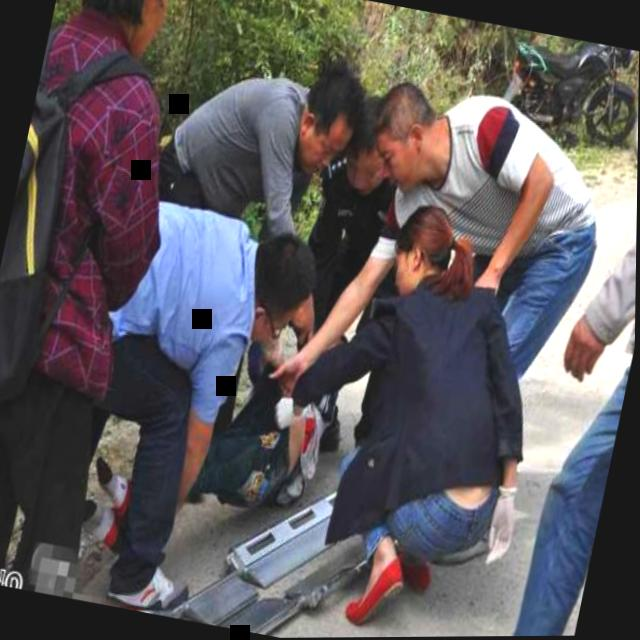Fall-Detected: (41, 230, 353, 623)
